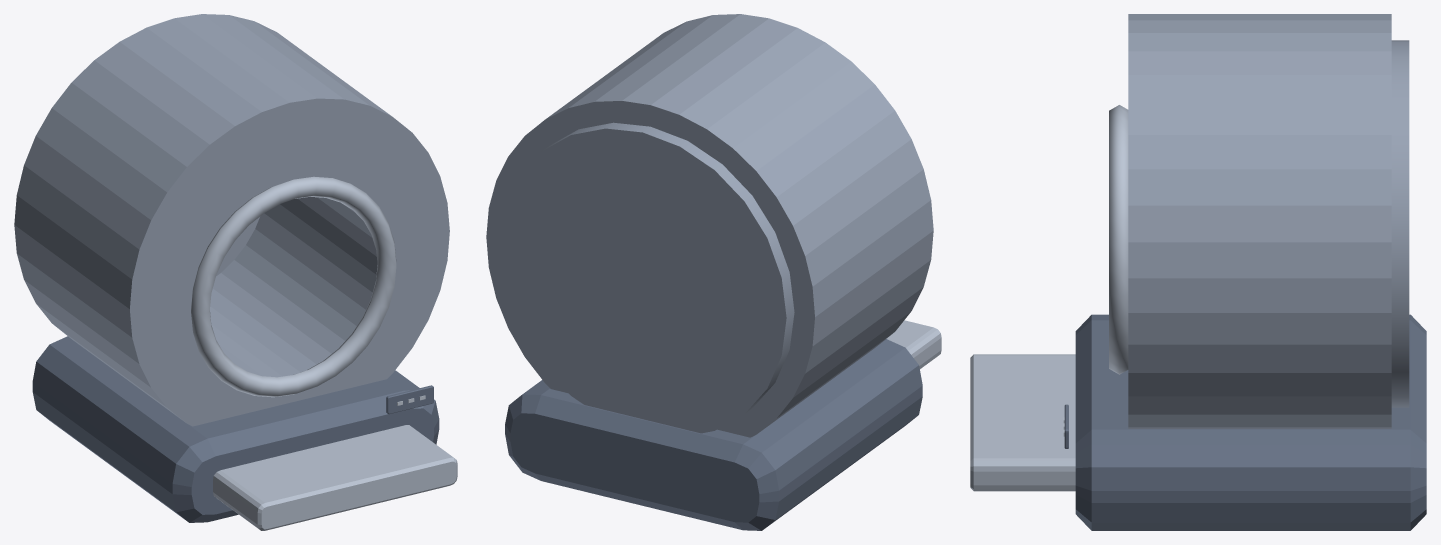
The model's file is smart-litter-box.glb.
3 renders of one model, left to right at view 1: azimuth 30°, elevation 25°; view 2: azimuth 150°, elevation 25°; view 3: azimuth 270°, elevation 25°, orthographic. The views are drawn at different scales.
Visible parts, largest first — view 1: body, dark, soft; view 2: body, dark, soft; view 3: body, dark, soft.
Boxes of the visible parts, box(x1,y1,x2,y2) form: body: box(14, 14, 449, 426); dark: box(32, 336, 439, 522); soft: box(191, 176, 457, 530); body: box(486, 14, 933, 437); dark: box(505, 339, 922, 530); soft: box(886, 320, 941, 368); body: box(1128, 14, 1409, 428); dark: box(1064, 314, 1426, 530); soft: box(970, 105, 1128, 491).
Bounding box in the file's own units: 0.48 × 0.55 × 0.52.
